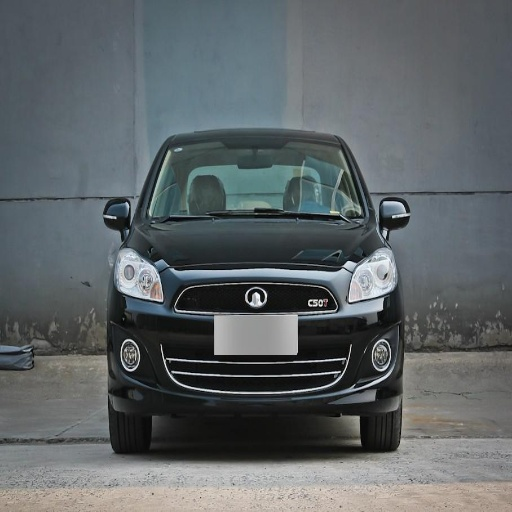front_bumper: (109, 267, 401, 411)
front_left_light: (348, 252, 396, 303)
front_right_door: (89, 71, 129, 122)
front_right_light: (114, 249, 162, 302)
hood: (132, 218, 377, 270)
